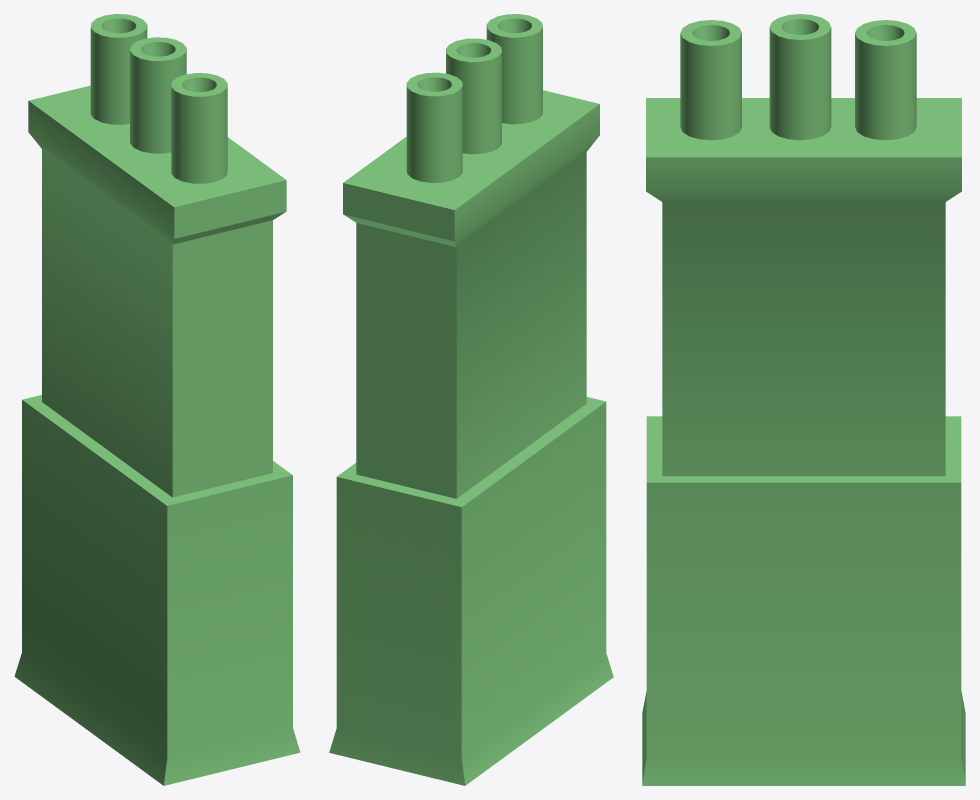
The model's file is Bld3_Deco_Chimney.fbx.
3 views of the same model, side by side, from view 1: azimuth 30°, elevation 25°; view 2: azimuth 150°, elevation 25°; view 3: azimuth 270°, elevation 25° (orthographic). The views are drawn at different scales.
Visible parts, largest first — view 1: Bld3_Deco_Chimney; view 2: Bld3_Deco_Chimney; view 3: Bld3_Deco_Chimney.
Boxes of the visible parts, bbox=[...] form: Bld3_Deco_Chimney: bbox=[14, 14, 300, 785]; Bld3_Deco_Chimney: bbox=[329, 14, 613, 785]; Bld3_Deco_Chimney: bbox=[642, 14, 965, 785].
Size of the model in its own units: 130 by 607 by 247.
